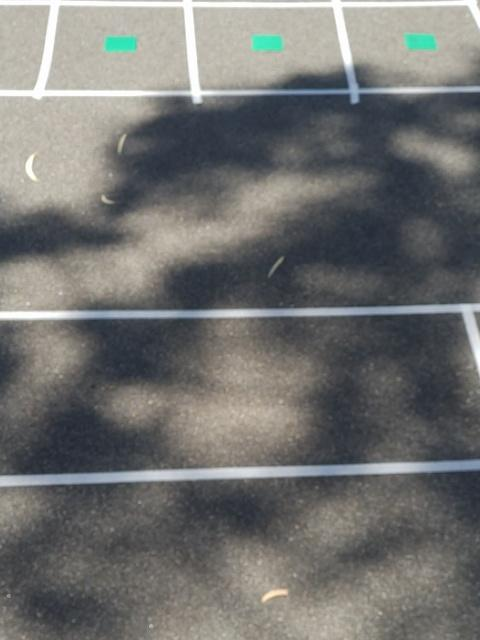weed: (101, 31, 139, 57), (249, 30, 287, 53), (402, 29, 437, 51)
